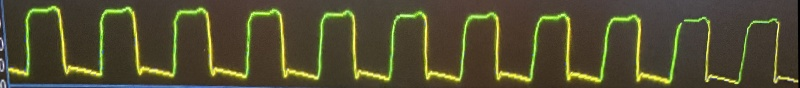normal_pressure: (1, 5, 795, 88)
